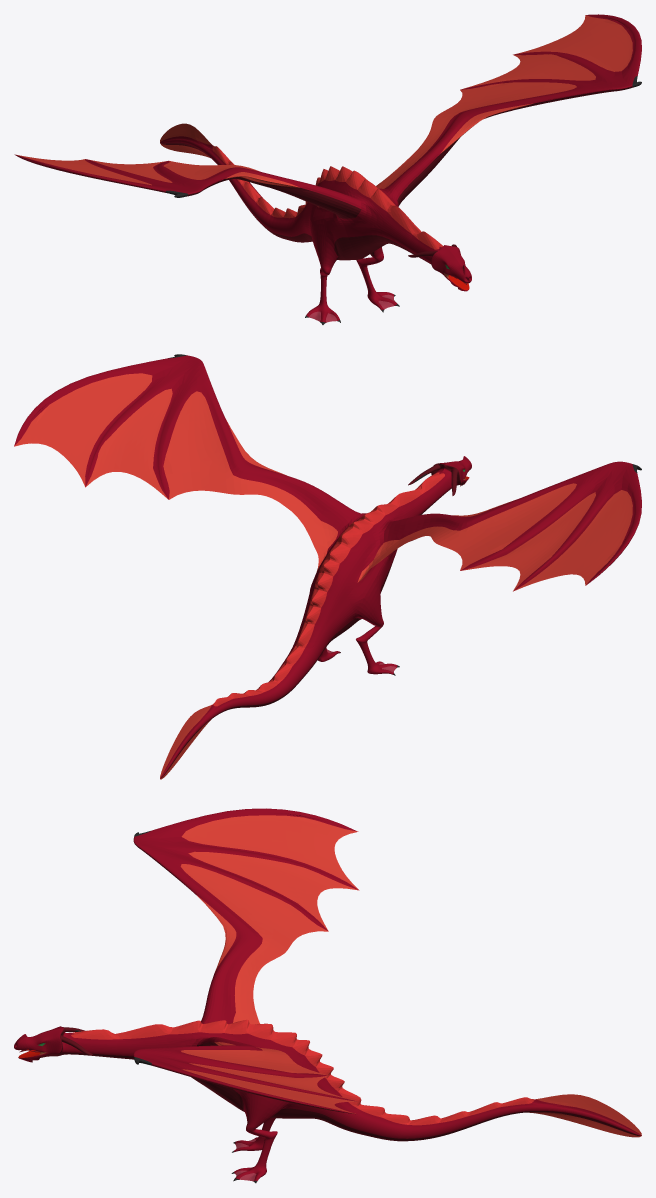
The model's file is 20170219_Dragon_small.gltf.
3 views of the same model, one above another, from view 1: azimuth 30°, elevation 25°; view 2: azimuth 150°, elevation 25°; view 3: azimuth 270°, elevation 25° (orthographic).
Visible parts, largest first — view 1: node-0; view 2: node-0; view 3: node-0.
Boxes of the visible parts, x1=… form: node-0: x1=14, y1=14, x2=641, y2=324; node-0: x1=14, y1=354, x2=641, y2=779; node-0: x1=14, y1=808, x2=641, y2=1183.
Bounding box in the file's own units: 17.04 × 5.92 × 15.55.
